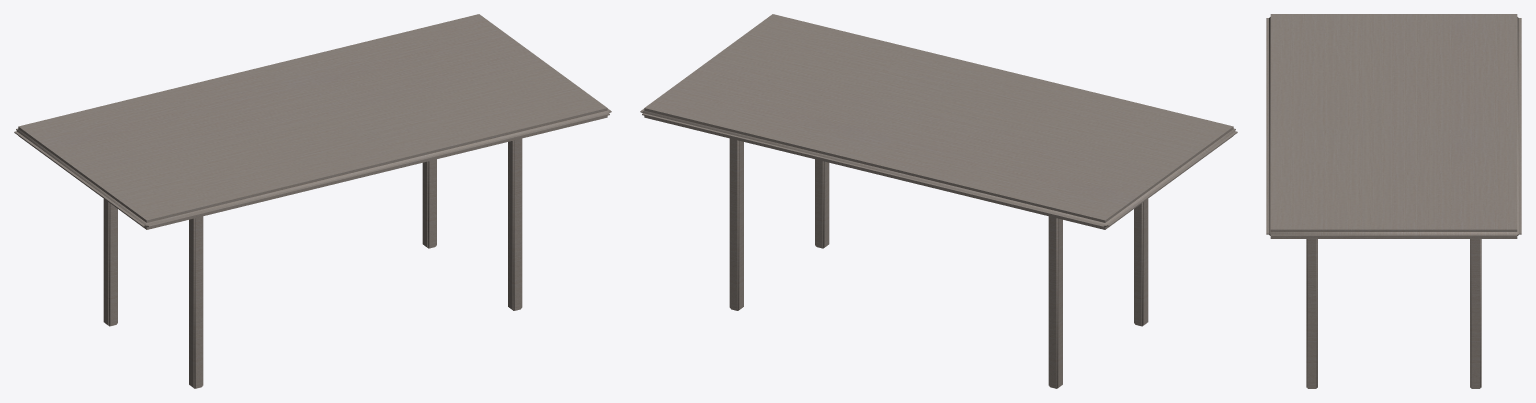
File: modern.dining_table.gltf
3 views of the same model, side by side, from view 1: azimuth 30°, elevation 25°; view 2: azimuth 150°, elevation 25°; view 3: azimuth 270°, elevation 25° (orthographic). The views are drawn at different scales.
Parts seen in each view (by area): view 1: modern.dining_table.rounded-top; view 2: modern.dining_table.rounded-top; view 3: modern.dining_table.rounded-top.
Part boxes in pixels (left/top/right/bottom): modern.dining_table.rounded-top: left=14, top=14, right=611, bottom=388; modern.dining_table.rounded-top: left=640, top=14, right=1237, bottom=388; modern.dining_table.rounded-top: left=1266, top=14, right=1521, bottom=388.
Size of the model in its own units: 1.85 by 0.75 by 0.91.
Materials: 1 (1 with a texture image).
